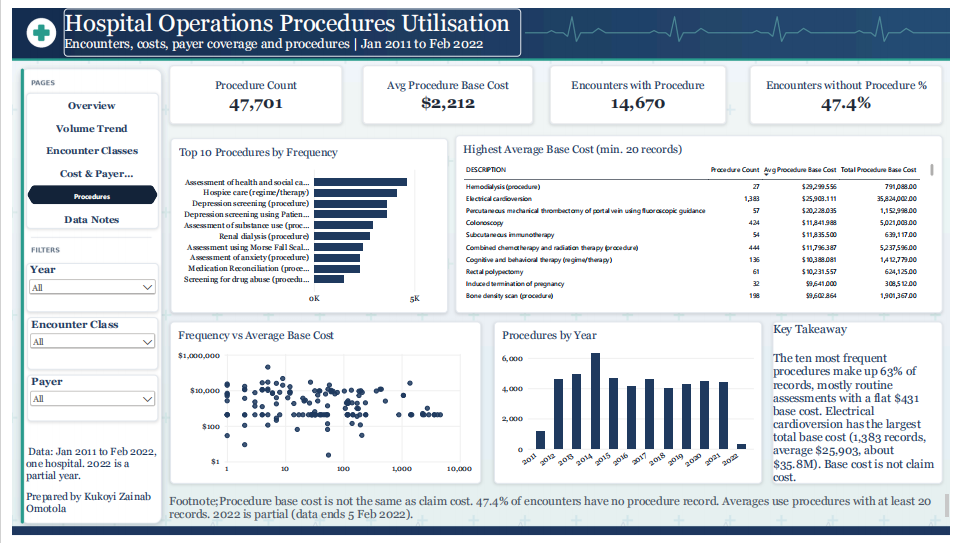

The page's visual inventory and layout, read from the dashboard file:
{"tool":"powerbi","page":{"name":"Procedures","canvas":[1920,1080],"ordinal":4},"visuals":[{"type":"textbox","box":[104.6,0,937.3,97.8],"z":0},{"type":"slicer","fields":{"Values":["DateTable.Year"]},"box":[28.5,522.1,270.6,99.7],"z":1000},{"type":"slicer","fields":{"Values":["payers.NAME"]},"box":[29.6,750.7,268.2,94.9],"z":2000},{"type":"cardVisual","fields":{"Data":["_Measures.Procedure Count"]},"box":[320.8,116,354.9,120.6],"z":3000},{"type":"cardVisual","fields":{"Data":["_Measures.Encounters without Procedure %"]},"box":[1510.5,116,395.8,120.6],"z":4000},{"type":"scatterChart","title":"Frequency vs Average Base Cost","fields":{"Category":["procedures.DESCRIPTION"],"X":["_Measures.Procedure Count"],"Y":["_Measures.Avg Procedure Base Cost"]},"box":[323,641.5,637,332.1],"z":5000},{"type":"tableEx","title":"Highest Average Base Cost (min. 20 records)","fields":{"Values":["procedures.DESCRIPTION","_Measures.Procedure Count","_Measures.Avg Procedure Base Cost","_Measures.Total Procedure Base Cost"]},"box":[908,260,998,364],"z":6000},{"type":"clusteredBarChart","title":"Top 10 Procedures by Frequency","fields":{"Category":["procedures.DESCRIPTION"],"Y":["_Measures.Procedure Count"]},"box":[324,266,568,358],"z":7000},{"type":"textbox","box":[320.8,996.4,1599.2,56.9],"z":8000},{"type":"textbox","box":[28.5,894.7,270.6,159],"z":9000},{"type":"pageNavigator","box":[28.5,173.3,270.6,277.7],"z":10000},{"type":"cardVisual","fields":{"Data":["_Measures.Avg Procedure Base Cost"]},"box":[716.6,116,350.3,120.6],"z":11000},{"type":"clusteredColumnChart","title":"Procedures by Year","fields":{"Category":["DateTable.Year"],"Y":["_Measures.Procedure Count"]},"box":[987.3,641.5,548.2,332.1],"z":12000},{"type":"cardVisual","fields":{"Data":["_Measures.Encounters with Procedure"]},"box":[1101,116,361.7,120.6],"z":14000},{"type":"slicer","fields":{"Values":["encounters.ENCOUNTERCLASS"]},"box":[29.6,632.9,268.2,106.8],"z":15000},{"type":"textbox","title":"Key Takeaway","box":[1558.3,641.5,348.1,332.1],"z":15001}]}

Visuals, with their boxes in screenshot pixels (x1, y1, x2, y2), scaled from the page's 1920x1080 canvas onto the 958x543 screenshot:
textbox: {"x1": 52, "y1": 0, "x2": 520, "y2": 49}
slicer - DateTable.Year: {"x1": 14, "y1": 263, "x2": 149, "y2": 313}
slicer - payers.NAME: {"x1": 15, "y1": 377, "x2": 149, "y2": 425}
cardVisual - _Measures.Procedure Count: {"x1": 160, "y1": 58, "x2": 337, "y2": 119}
cardVisual - _Measures.Encounters without Procedure %: {"x1": 754, "y1": 58, "x2": 951, "y2": 119}
"Frequency vs Average Base Cost" scatterChart: {"x1": 161, "y1": 323, "x2": 479, "y2": 490}
"Highest Average Base Cost (min. 20 records)" tableEx: {"x1": 453, "y1": 131, "x2": 951, "y2": 314}
"Top 10 Procedures by Frequency" clusteredBarChart: {"x1": 162, "y1": 134, "x2": 445, "y2": 314}
textbox: {"x1": 160, "y1": 501, "x2": 957, "y2": 530}
textbox: {"x1": 14, "y1": 450, "x2": 149, "y2": 530}
pageNavigator: {"x1": 14, "y1": 87, "x2": 149, "y2": 227}
cardVisual - _Measures.Avg Procedure Base Cost: {"x1": 358, "y1": 58, "x2": 532, "y2": 119}
"Procedures by Year" clusteredColumnChart: {"x1": 493, "y1": 323, "x2": 766, "y2": 490}
cardVisual - _Measures.Encounters with Procedure: {"x1": 549, "y1": 58, "x2": 730, "y2": 119}
slicer - encounters.ENCOUNTERCLASS: {"x1": 15, "y1": 318, "x2": 149, "y2": 372}
"Key Takeaway" textbox: {"x1": 778, "y1": 323, "x2": 951, "y2": 490}
